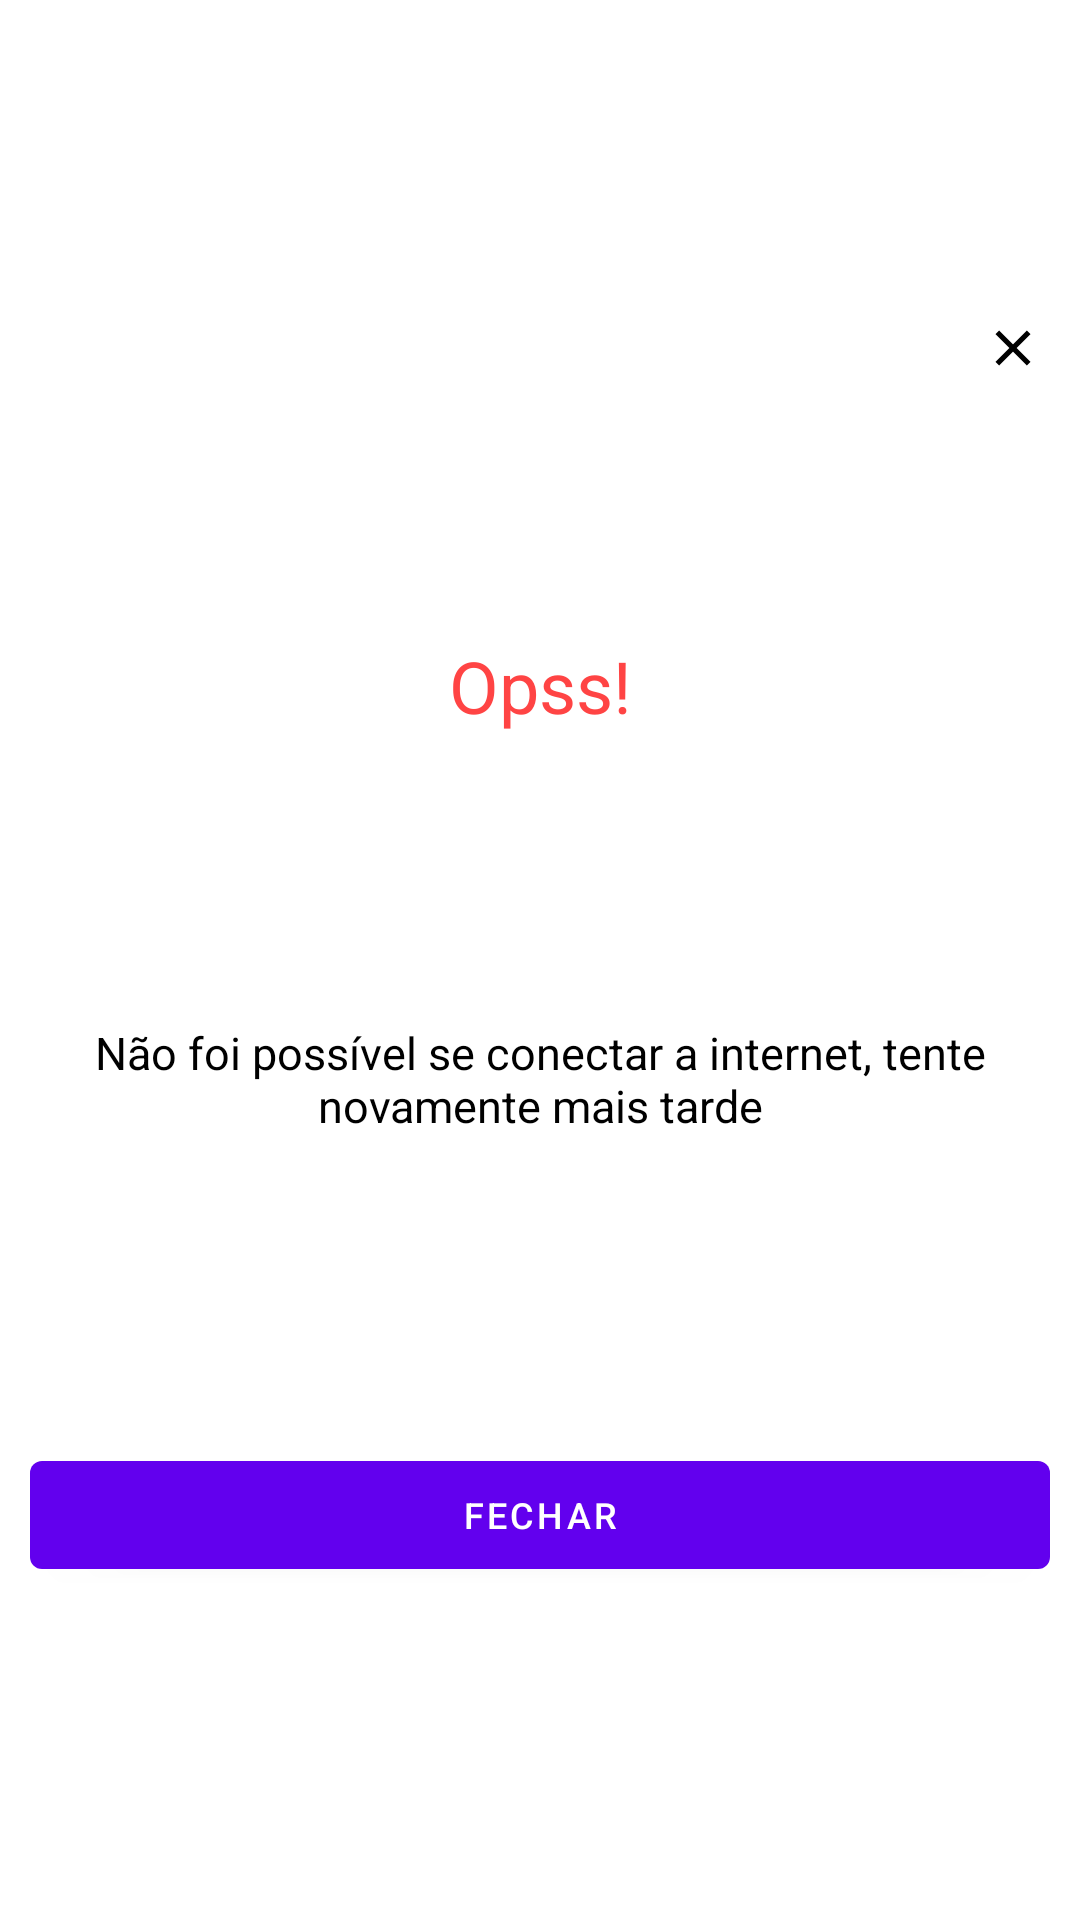

Named icons in this screenshot (1080w x 1920h) and their bounding boxes, [left=x1, top=y1, right=x2, bottom=y2]:
Fechar: [left=995, top=330, right=1031, bottom=366]
